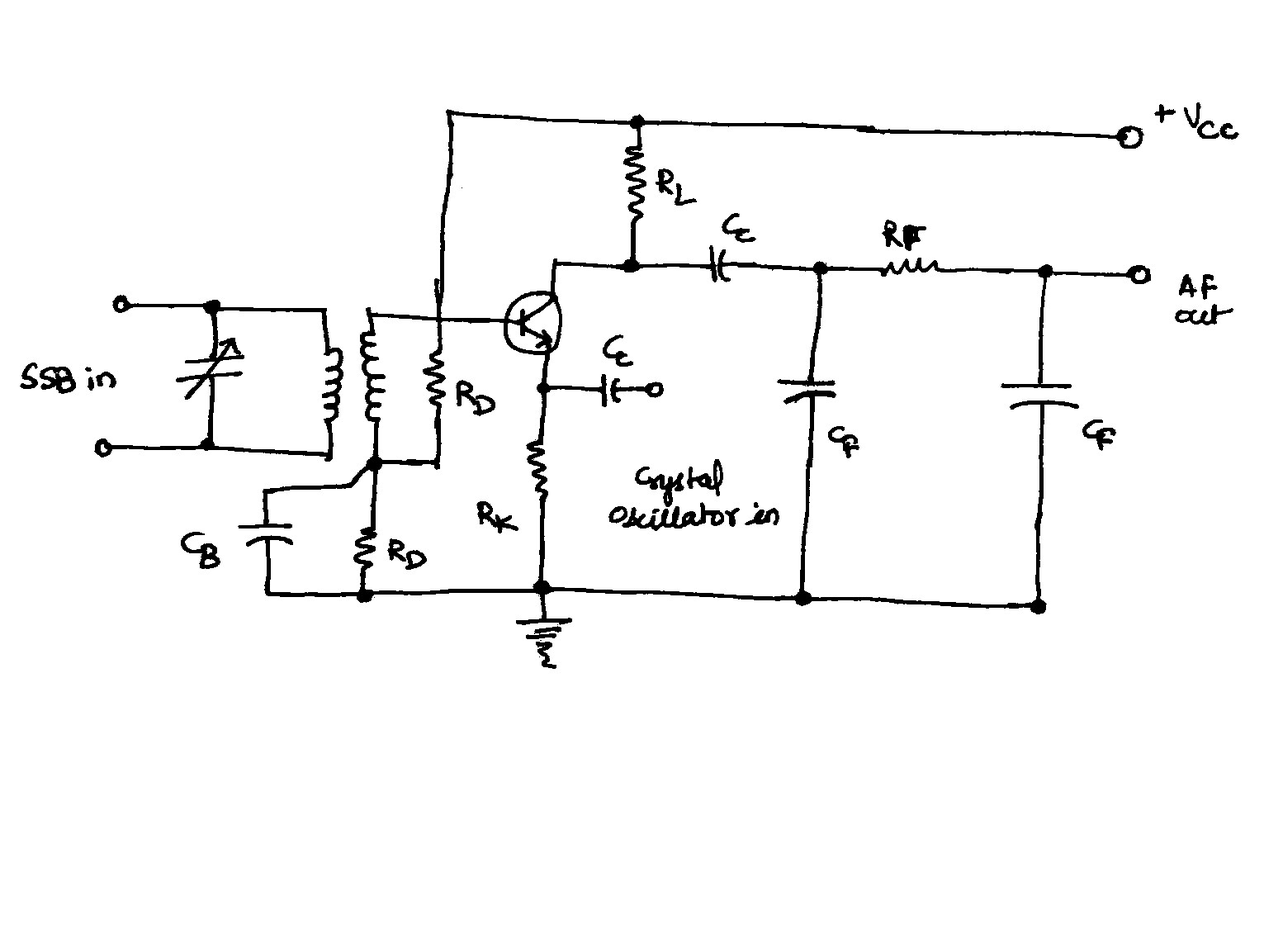capacitor.adjustable: (175, 335, 244, 399)
capacitor.unpolarized: (1001, 375, 1077, 409), (775, 373, 841, 410), (239, 519, 294, 547), (595, 368, 625, 414), (703, 244, 733, 284)
gnd: (515, 610, 573, 667)
inductor: (358, 330, 386, 423), (321, 346, 345, 426)
junction: (614, 249, 651, 280), (362, 448, 392, 478), (199, 296, 230, 322), (786, 586, 817, 612), (528, 574, 557, 601), (1023, 593, 1051, 620), (625, 107, 652, 134), (805, 256, 835, 280), (197, 431, 221, 459), (253, 481, 280, 505), (350, 584, 378, 607), (1034, 261, 1058, 284), (441, 104, 465, 126), (260, 581, 283, 603), (534, 377, 555, 400), (428, 457, 445, 472), (359, 306, 377, 320), (315, 302, 330, 318), (323, 448, 337, 464), (546, 255, 562, 268), (342, 478, 355, 494), (431, 314, 445, 327)
resistor: (419, 337, 452, 416), (621, 141, 648, 220), (524, 433, 551, 500), (873, 254, 944, 277), (351, 522, 377, 571)
terminal: (1110, 121, 1144, 153), (1119, 258, 1153, 289), (100, 291, 137, 318), (88, 435, 121, 462), (638, 377, 665, 401)
text: (610, 459, 780, 529), (1172, 272, 1234, 327), (19, 363, 119, 391), (1182, 102, 1238, 143), (454, 377, 496, 417), (182, 525, 217, 572), (881, 216, 926, 251), (656, 165, 693, 206), (476, 499, 518, 534), (387, 537, 428, 570), (826, 424, 861, 459), (1082, 416, 1114, 450), (602, 332, 633, 366), (721, 212, 753, 240)
transformer: (320, 329, 388, 428)
transistor.bjt: (500, 285, 565, 355)
